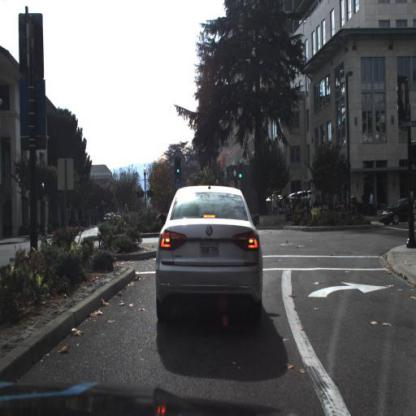car: (152, 184, 264, 322), (381, 198, 416, 234)
pedestrian: (124, 202, 133, 220)
trafficLight-Green: (174, 154, 183, 177), (239, 163, 246, 183)
trafficLight-Red: (176, 159, 182, 180)
